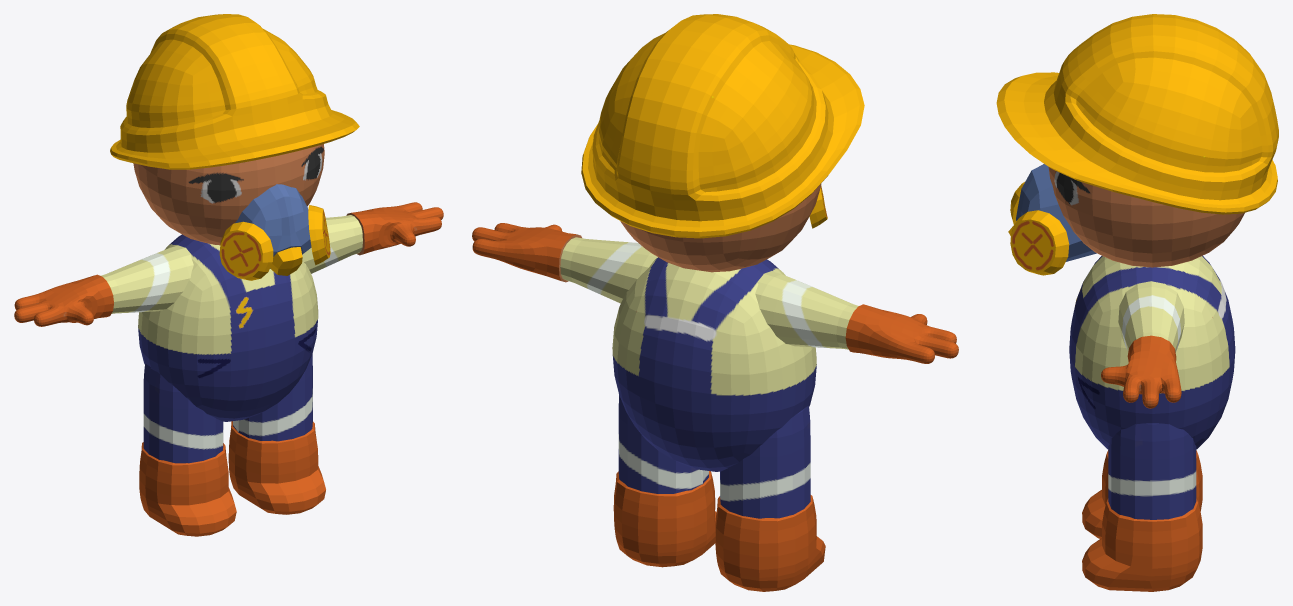
The model's file is character - origin.fbx.
The picture shows the model from 3 angles, left to right: view 1: azimuth 30°, elevation 25°; view 2: azimuth 150°, elevation 25°; view 3: azimuth 270°, elevation 25°; orthographic projection. The views are drawn at different scales.
Visible parts, largest first — view 1: hat, body, Plane, boots, head, head.003, mask; view 2: hat, body, Plane, boots, head; view 3: hat, body, Plane, head, boots, head.003, mask.
Part boxes in pixels (bbox=[...]): hat: bbox=[110, 14, 359, 169]; body: bbox=[138, 234, 318, 421]; Plane: bbox=[14, 202, 443, 463]; boots: bbox=[139, 421, 325, 536]; head: bbox=[133, 144, 324, 245]; head.003: bbox=[219, 205, 330, 280]; mask: bbox=[235, 184, 311, 268]; hat: bbox=[581, 14, 864, 238]; body: bbox=[612, 257, 816, 471]; Plane: bbox=[472, 223, 958, 518]; boots: bbox=[613, 471, 825, 591]; head: bbox=[620, 184, 821, 272]; hat: bbox=[996, 14, 1278, 214]; body: bbox=[1069, 255, 1235, 449]; Plane: bbox=[1101, 281, 1196, 519]; head: bbox=[1048, 167, 1244, 267]; boots: bbox=[1082, 450, 1202, 591]; head.003: bbox=[1008, 182, 1069, 275]; mask: bbox=[1016, 164, 1096, 261].
Bounding box in the file's own units: 131 × 150 × 70.02.
8 materials, 7 textured.
